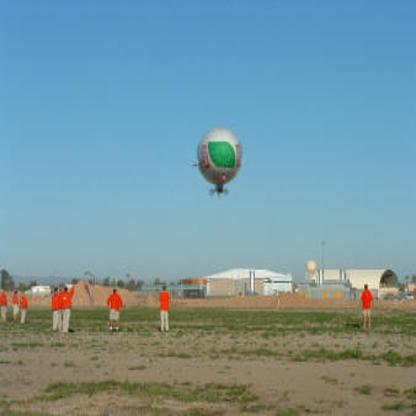Airship: (187, 123, 249, 205)
